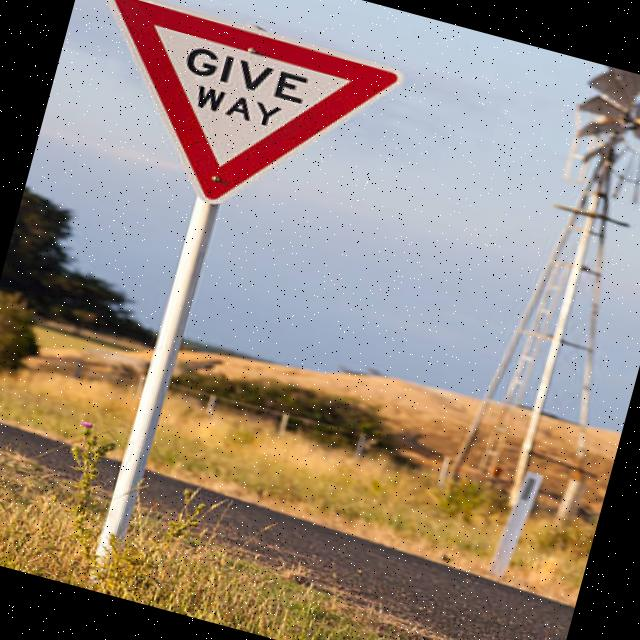give_way: (57, 0, 444, 252)
